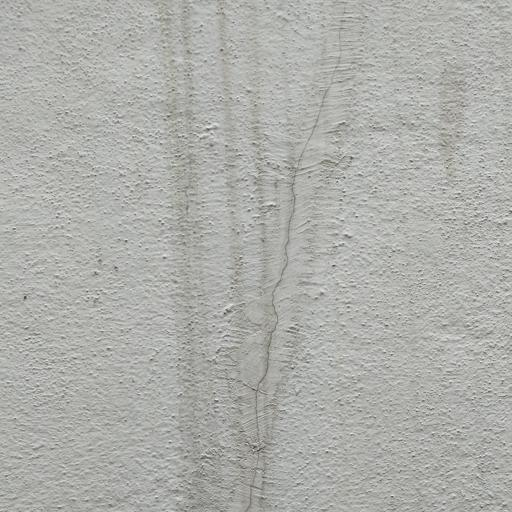minor_crack: (220, 0, 370, 512)
